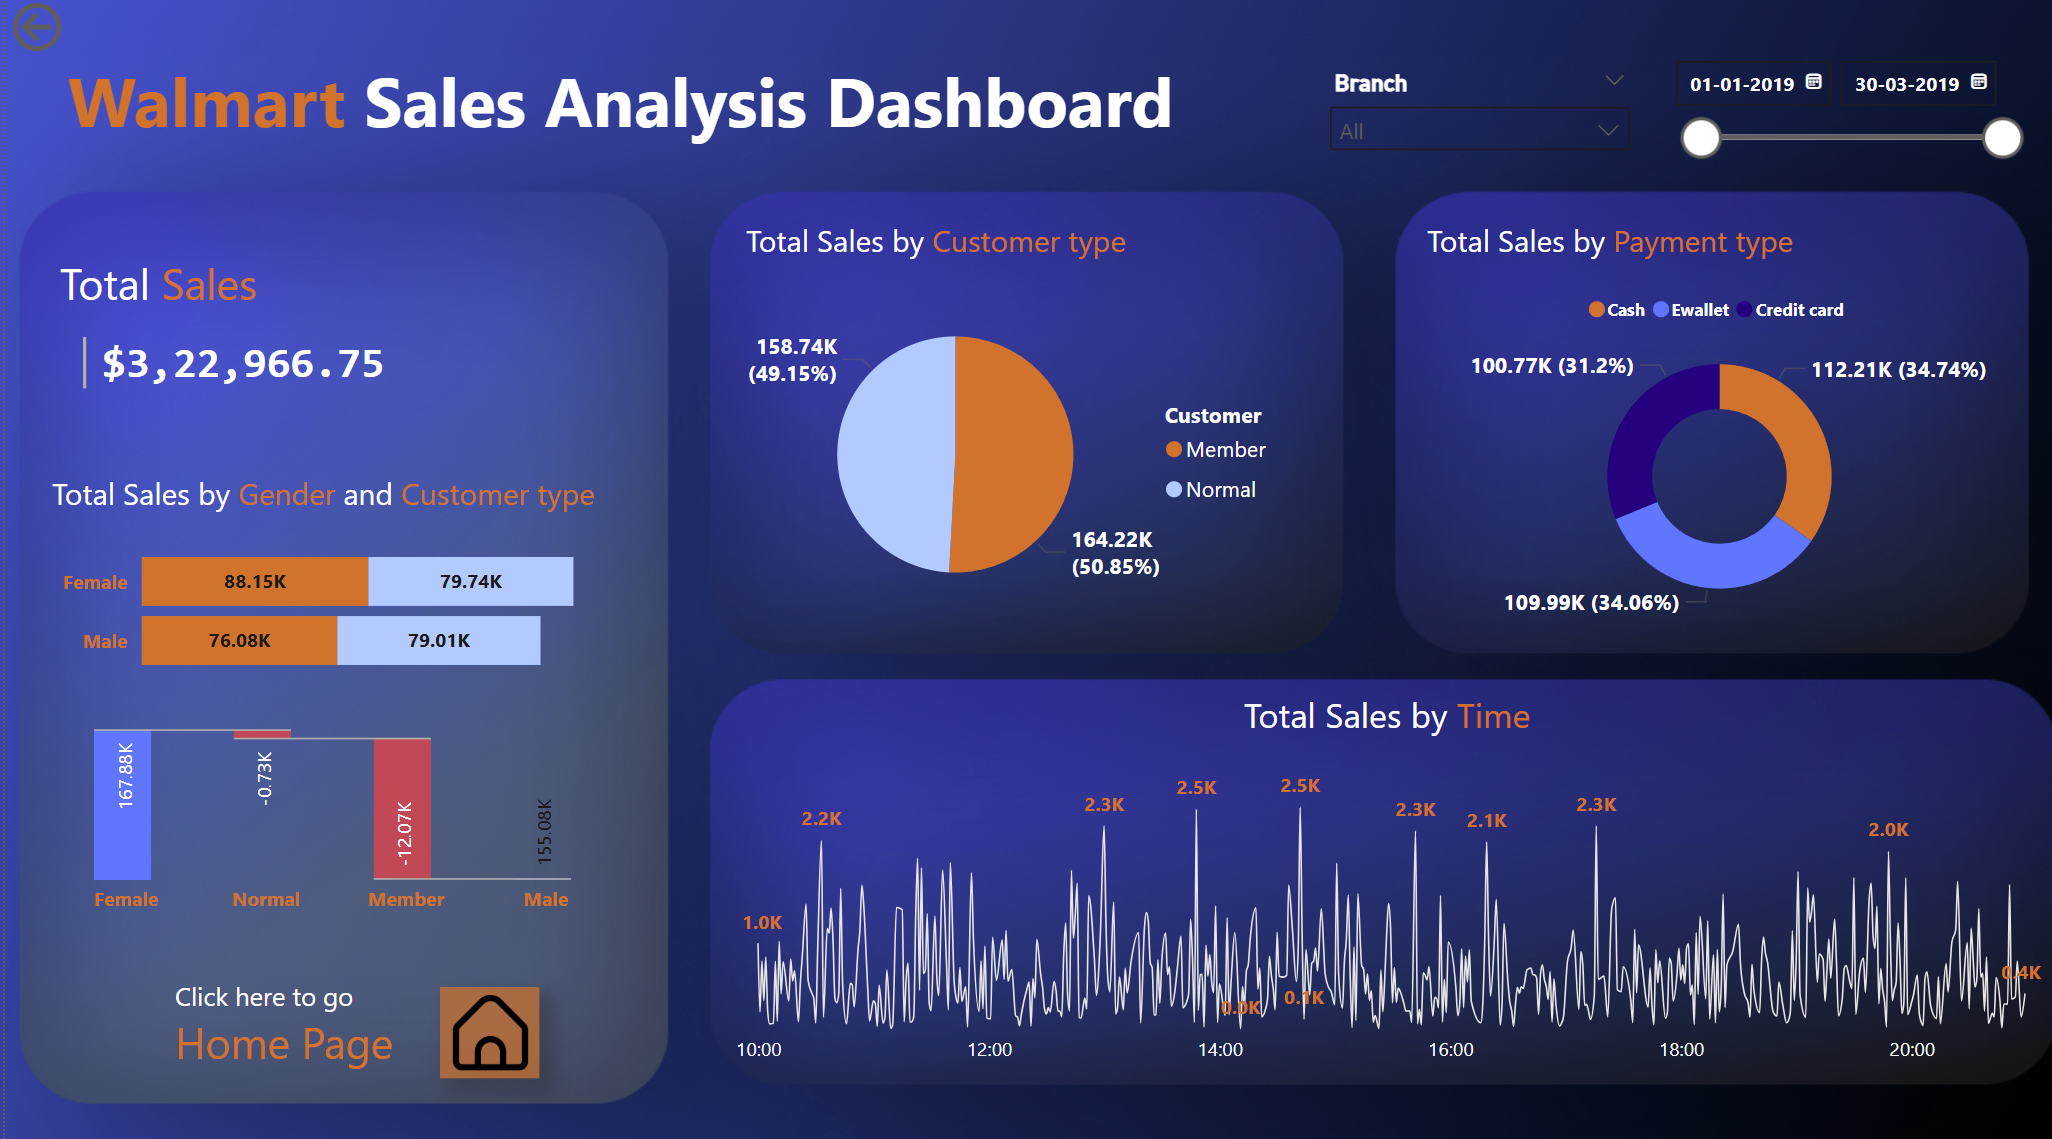

What the dashboard file says about the page in this screenshot:
{"tool":"powerbi","page":{"name":"Customer Insights","canvas":[1280,720],"ordinal":1},"visuals":[{"type":"pieChart","fields":{"Category":["Walmart Sales.Customer type"],"Y":["Walmart Sales.Total Sales"]},"box":[457.3,177.2,351.3,219],"z":0},{"type":"donutChart","fields":{"Category":["Walmart Sales.Payment"],"Y":["Walmart Sales.Total Sales"]},"box":[889.7,177.2,360,219],"z":1000},{"type":"barChart","fields":{"Category":["Walmart Sales.Gender"],"Y":["Walmart Sales.Total Sales"],"Series":["Walmart Sales.Customer type"]},"box":[29.3,304.5,381.8,152.9],"z":2000},{"type":"lineChart","fields":{"Category":["Walmart Sales.Time"],"Y":["Walmart Sales.Total Sales"]},"box":[449.8,467.3,830.4,208.4],"z":3000},{"type":"textbox","box":[24.3,293.2,363.7,36.2],"z":4000},{"type":"textbox","box":[768,429.3,197.2,43.1],"z":5000},{"type":"multiRowCard","fields":{"Values":["Walmart Sales.Total Sales"]},"box":[43.7,208.4,247.1,70.5],"z":6000},{"type":"textbox","box":[29.3,156.6,142.9,51.8],"z":7000},{"type":"textbox","box":[457.3,135.4,281.4,41.8],"z":8000},{"type":"textbox","box":[882.2,135.4,281.4,41.8],"z":9000},{"type":"slicer","fields":{"Values":["Walmart Sales.Date"]},"box":[1029.5,31.2,237.7,79.9],"z":10000},{"type":"slicer","fields":{"Values":["Walmart Sales.Branch"]},"box":[816.7,41.8,206.5,69.3],"z":11000},{"type":"textbox","box":[101.1,608.9,170.3,82.4],"z":12000},{"type":"actionButton","box":[0,0,100,40],"z":13000},{"type":"waterfallChart","fields":{"Category":["Walmart Sales.Gender"],"Y":["Walmart Sales.Total Sales"],"Breakdown":["Walmart Sales.Customer type"]},"box":[15.6,429.3,381.8,152.9],"z":14000},{"type":"textbox","box":[34.3,31.2,774.3,79.2],"z":15000},{"type":"image","box":[271.4,618.9,62.4,56.8],"z":15001}]}

Visuals, with their boxes in screenshot pixels (x1, y1, x2, y2), scaled from the page's 1280x720 canvas onto the 2052x1139 screenshot:
pieChart - Walmart Sales.Customer type x Walmart Sales.Total Sales: bbox=[733, 280, 1296, 627]
donutChart - Walmart Sales.Payment x Walmart Sales.Total Sales: bbox=[1426, 280, 2003, 627]
barChart - Walmart Sales.Gender x Walmart Sales.Total Sales: bbox=[47, 482, 659, 724]
lineChart - Walmart Sales.Time x Walmart Sales.Total Sales: bbox=[721, 739, 2051, 1069]
textbox: bbox=[39, 464, 622, 521]
textbox: bbox=[1231, 679, 1547, 747]
multiRowCard - Walmart Sales.Total Sales: bbox=[70, 330, 466, 441]
textbox: bbox=[47, 248, 276, 330]
textbox: bbox=[733, 214, 1184, 280]
textbox: bbox=[1414, 214, 1865, 280]
slicer - Walmart Sales.Date: bbox=[1650, 49, 2031, 176]
slicer - Walmart Sales.Branch: bbox=[1309, 66, 1640, 176]
textbox: bbox=[162, 963, 435, 1094]
actionButton: bbox=[0, 0, 160, 63]
waterfallChart - Walmart Sales.Gender x Walmart Sales.Total Sales: bbox=[25, 679, 637, 921]
textbox: bbox=[55, 49, 1296, 175]
image: bbox=[435, 979, 535, 1069]
